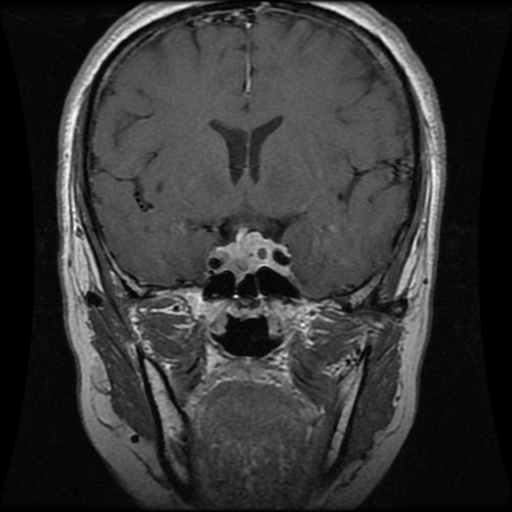pituitary: (215, 228, 275, 280)
